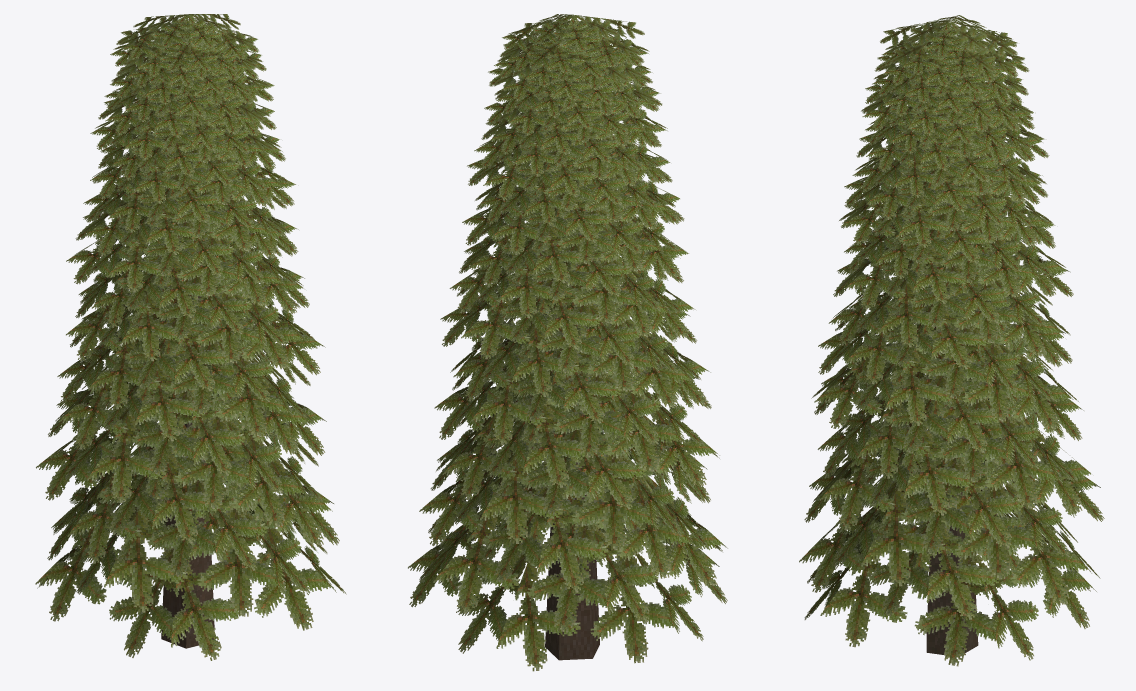
Rendered from pine1.glb.
3 views of the same model, side by side, from view 1: azimuth 30°, elevation 25°; view 2: azimuth 150°, elevation 25°; view 3: azimuth 270°, elevation 25° (orthographic).
Visible parts, largest first — view 1: Pinetree; view 2: Pinetree; view 3: Pinetree.
Boxes of the visible parts, x1,y1,x2,y2 form: Pinetree: [35, 14, 346, 660]; Pinetree: [408, 14, 727, 671]; Pinetree: [799, 15, 1104, 666].
Size of the model in its own units: 6.13 by 12.03 by 6.01.
Materials: 2 (2 with a texture image).
